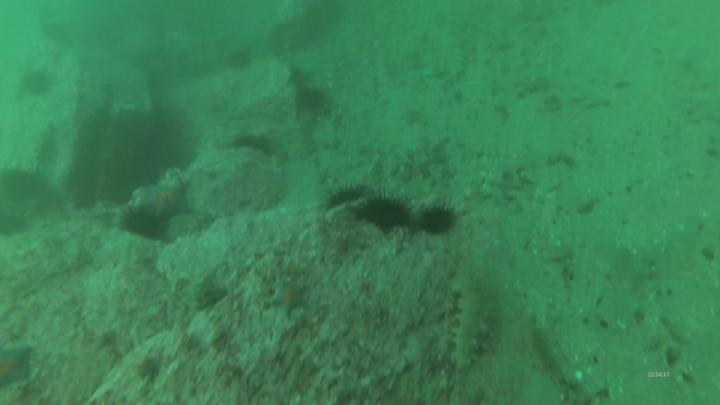echinus: (360, 198, 413, 226), (125, 212, 161, 238), (422, 210, 455, 230), (329, 187, 361, 206), (299, 88, 325, 108)
holothurian: (523, 316, 565, 388), (454, 289, 482, 372)
starfish: (270, 279, 311, 317), (1, 349, 33, 389), (153, 188, 194, 215)
